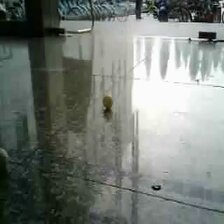w: (102, 94, 114, 108)
